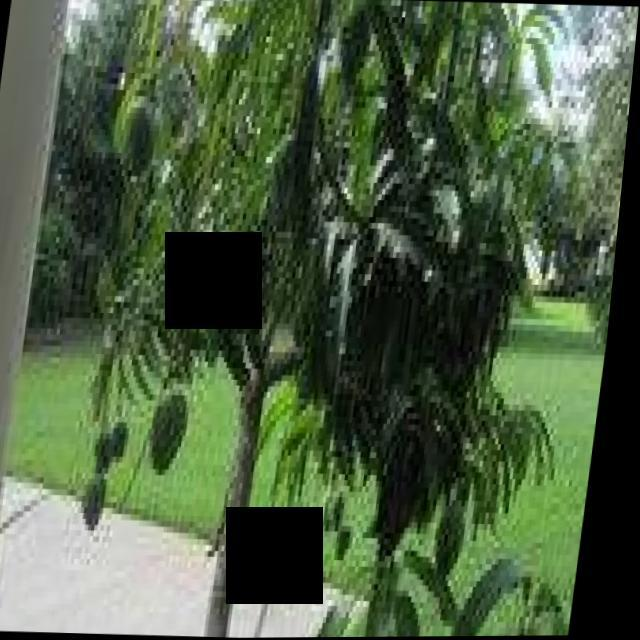Tree: (87, 1, 477, 633)
